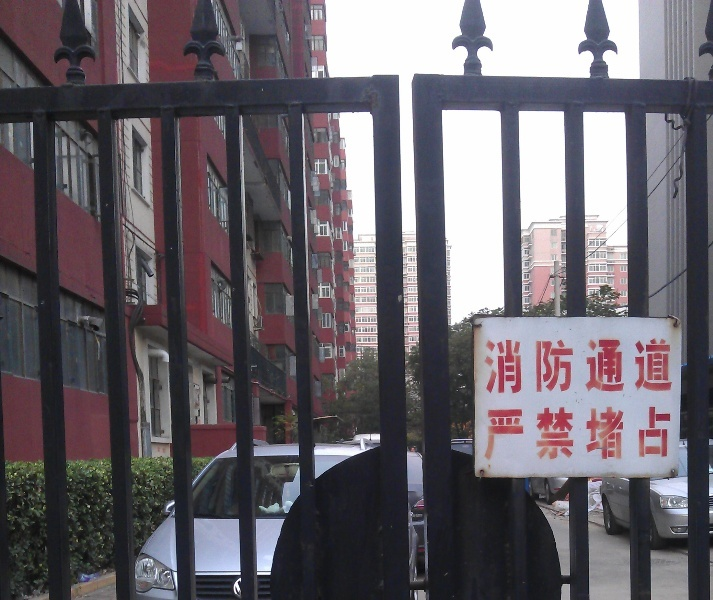text: (657, 338, 673, 394), (497, 338, 512, 394), (513, 338, 528, 394), (529, 338, 544, 394), (545, 338, 560, 394), (561, 338, 576, 394), (577, 338, 592, 394), (593, 338, 608, 394), (609, 338, 624, 394), (625, 338, 640, 394), (641, 338, 656, 394), (497, 407, 512, 459), (513, 407, 528, 459), (529, 407, 544, 459), (545, 407, 560, 459), (561, 407, 576, 459), (577, 407, 592, 459), (593, 407, 608, 459), (609, 407, 624, 459), (625, 407, 640, 459), (641, 407, 656, 459), (657, 407, 671, 459), (484, 338, 496, 394), (484, 407, 496, 459)
